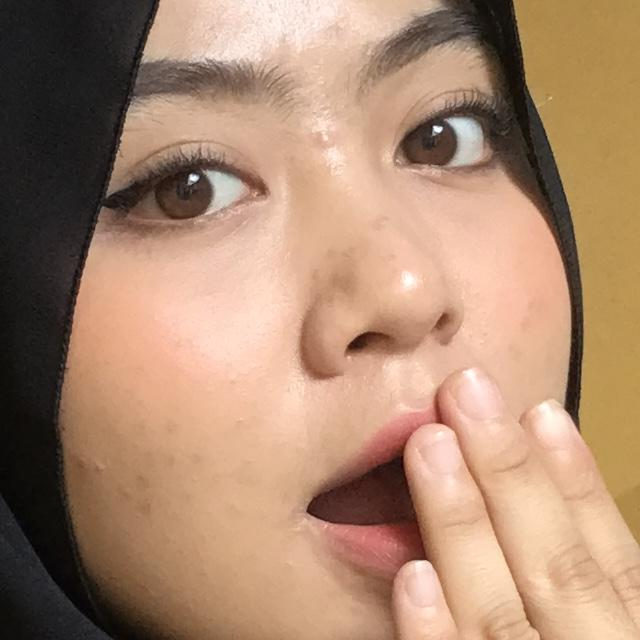ngantuk: (325, 316, 640, 640)
